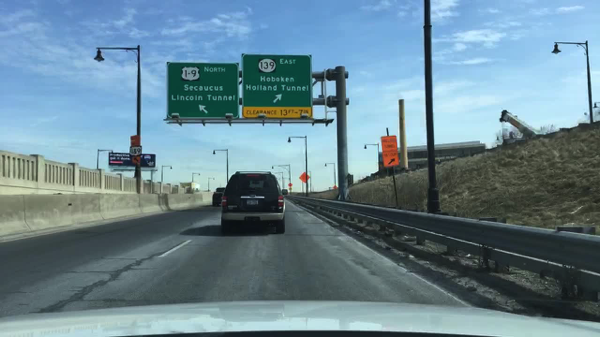car: (221, 172, 287, 236), (213, 187, 225, 207)
traffic light: (131, 136, 139, 146)
traffic sign: (242, 55, 312, 118), (167, 62, 239, 118), (109, 152, 154, 169), (381, 136, 399, 168), (300, 172, 310, 184), (129, 146, 141, 155), (132, 157, 141, 165), (288, 183, 292, 191)
